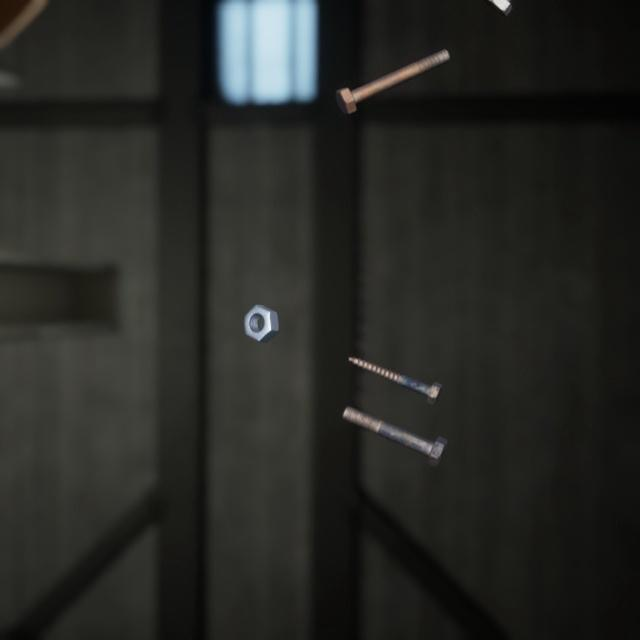bolt: (331, 35, 454, 108), (337, 382, 452, 452), (344, 334, 446, 391)
nut: (239, 281, 283, 328)
